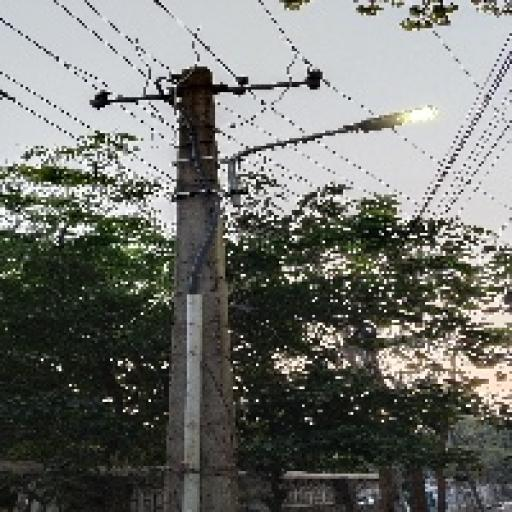Working: (344, 98, 441, 144)
